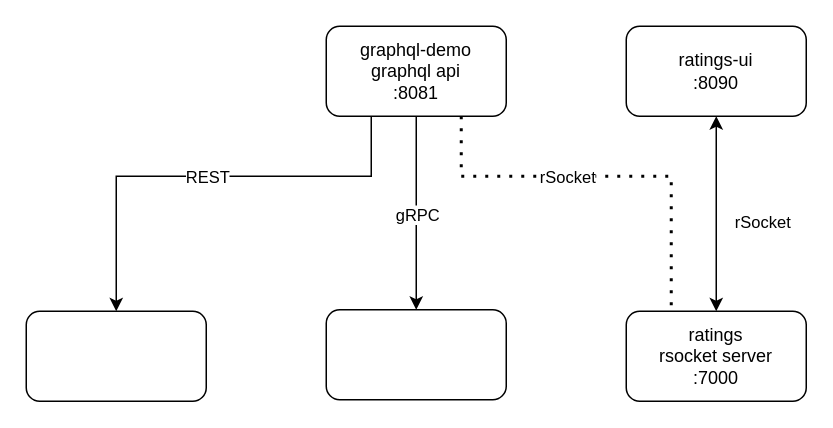
The diagram is 833 pixels wide and 428 high, and some of its shapes have lost their labels. Each missing label, with the centre of its shape:
"hosts grpc server :9090" goes at pixel 415 354.
"sessions reactive rest api :8080" goes at pixel 115 355.
